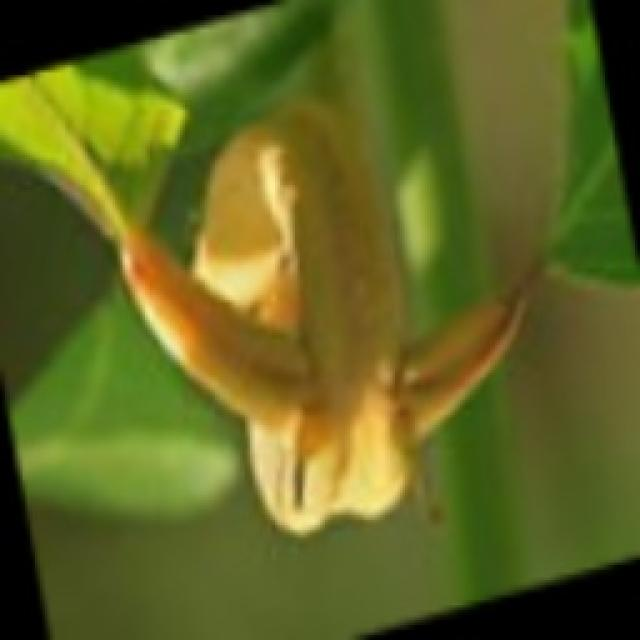Elderberry_rust: (137, 103, 486, 536)
